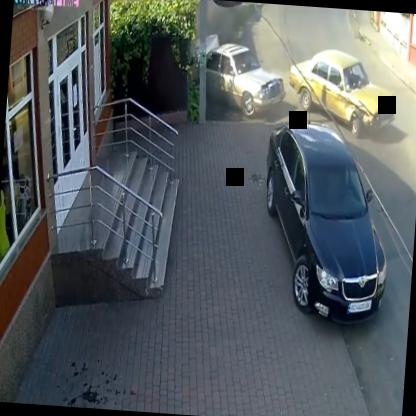accident: (203, 42, 397, 136)
